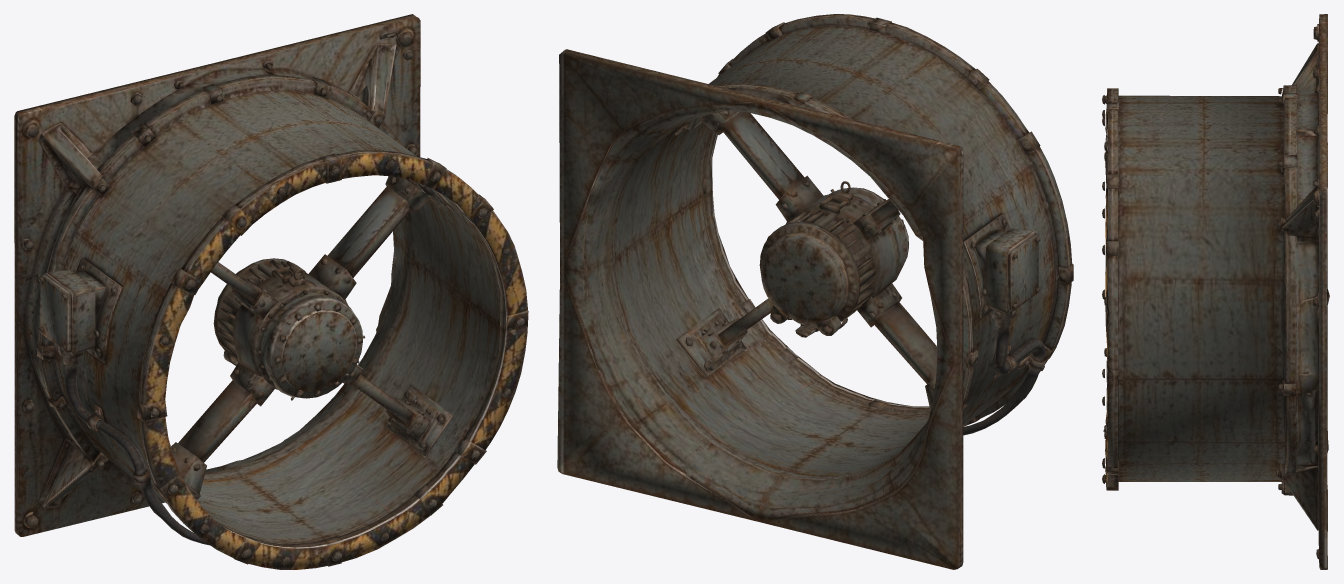
File: reactor-extraction-fan.glb
3 renders of one model, left to right at view 1: azimuth 30°, elevation 25°; view 2: azimuth 150°, elevation 25°; view 3: azimuth 270°, elevation 25°, orthographic. The views are drawn at different scales.
Parts seen in each view (by area): view 1: reactor-extraction-fan; view 2: reactor-extraction-fan; view 3: reactor-extraction-fan.
Part boxes in pixels (x1,y1,x2,y2): reactor-extraction-fan: [14, 14, 528, 569]; reactor-extraction-fan: [557, 14, 1073, 569]; reactor-extraction-fan: [1102, 14, 1329, 569].
Size of the model in its own units: 2.6 by 2.51 by 1.36.
Materials: 1 (1 with a texture image).
